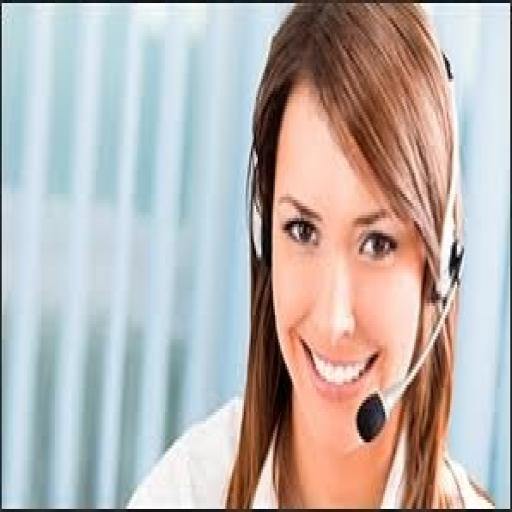calling: (124, 0, 496, 509)
